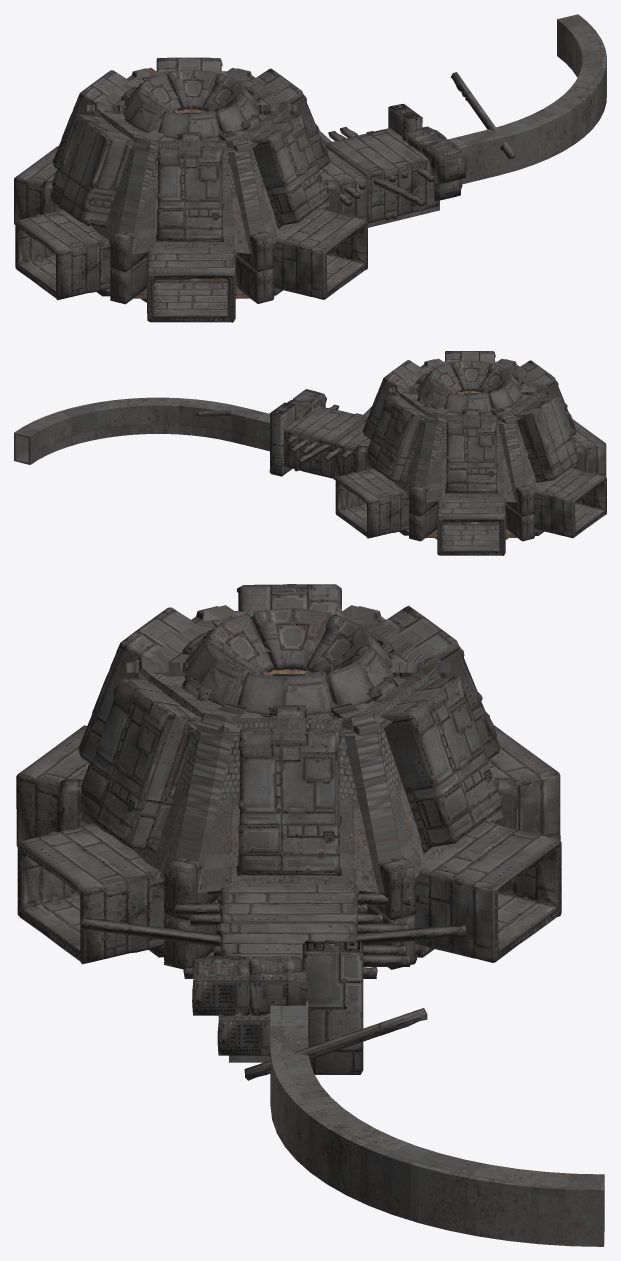
File: LOC0_1.fbx
3 views of the same model, one above another, from view 1: azimuth 30°, elevation 25°; view 2: azimuth 150°, elevation 25°; view 3: azimuth 270°, elevation 25° (orthographic). The views are drawn at different scales.
Parts seen in each view (by area): view 1: Circle.010, Cube.020, CityAsset-7.005, CityAsset-14.005, CityAsset-14.008, CityAsset-14.006, CityAsset-13.005, CityAsset-13.006, CityAsset-13.004, CityAsset-14.004, Circle.011, CityAsset-14.011 (+15 smaller); view 2: Cube.020, Circle.010, CityAsset-7.005, CityAsset-14.010, CityAsset-14.008, CityAsset-14.011, CityAsset-13.007, CityAsset-13.006, CityAsset-13.008, CityAsset-14.004, Techblock-9.057, Circle.011 (+10 smaller); view 3: Cube.020, Circle.010, CityAsset-7.005, CityAsset-14.010, CityAsset-13.002, CityAsset-14.005, CityAsset-13.008, CityAsset-13.004, Techblock-9.057, CityAsset-14.002, Circle.011, CityAsset-14.006 (+16 smaller).
Boxes of the visible parts, x1,y1,x2,y2 form: Circle.010: (56, 67, 329, 253); Cube.020: (447, 14, 606, 184); CityAsset-7.005: (123, 69, 259, 138); CityAsset-14.005: (272, 207, 367, 299); CityAsset-14.008: (15, 209, 110, 300); CityAsset-14.006: (146, 246, 236, 322); CityAsset-13.005: (156, 146, 223, 241); CityAsset-13.006: (50, 114, 132, 228); CityAsset-13.004: (250, 114, 328, 228); CityAsset-14.004: (325, 128, 439, 223); Circle.011: (86, 68, 297, 152); CityAsset-14.011: (14, 146, 58, 224); Cube.020: (14, 397, 269, 464); Circle.010: (366, 358, 575, 502); CityAsset-7.005: (418, 360, 522, 413); CityAsset-14.010: (335, 468, 409, 538); CityAsset-14.008: (533, 467, 606, 538); CityAsset-14.011: (436, 497, 506, 555); CityAsset-13.007: (445, 419, 497, 493); CityAsset-13.006: (514, 395, 579, 482); CityAsset-13.008: (365, 396, 426, 482); CityAsset-14.004: (283, 406, 367, 478); Techblock-9.057: (269, 402, 296, 476); Circle.011: (388, 359, 551, 423); Cube.020: (270, 1000, 604, 1246); Circle.010: (77, 605, 503, 892); CityAsset-7.005: (184, 608, 394, 715); CityAsset-14.010: (414, 820, 561, 962); CityAsset-13.002: (236, 727, 341, 875); CityAsset-14.005: (17, 823, 164, 964); CityAsset-13.008: (381, 676, 502, 852); CityAsset-13.004: (77, 678, 200, 852); Techblock-9.057: (302, 940, 363, 1074); CityAsset-14.002: (219, 881, 359, 933); Circle.011: (125, 606, 451, 735); CityAsset-14.006: (16, 725, 89, 846).
Bounding box in the file's own units: 755 × 223 × 387.
